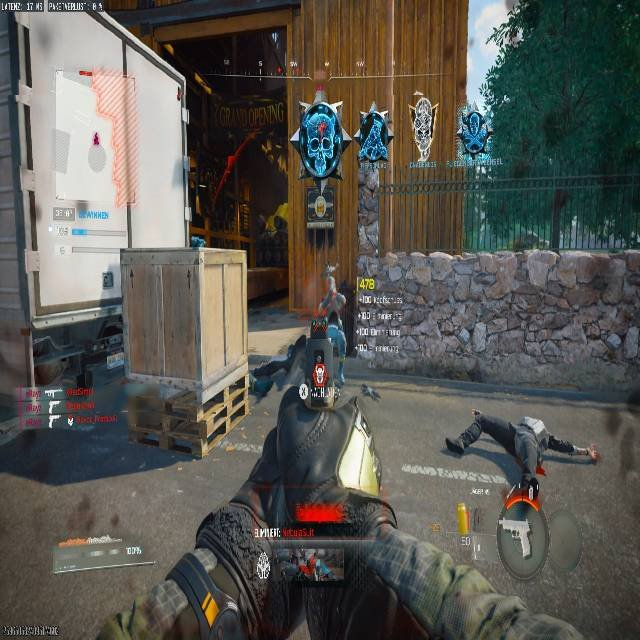player: (408, 90, 436, 158)
